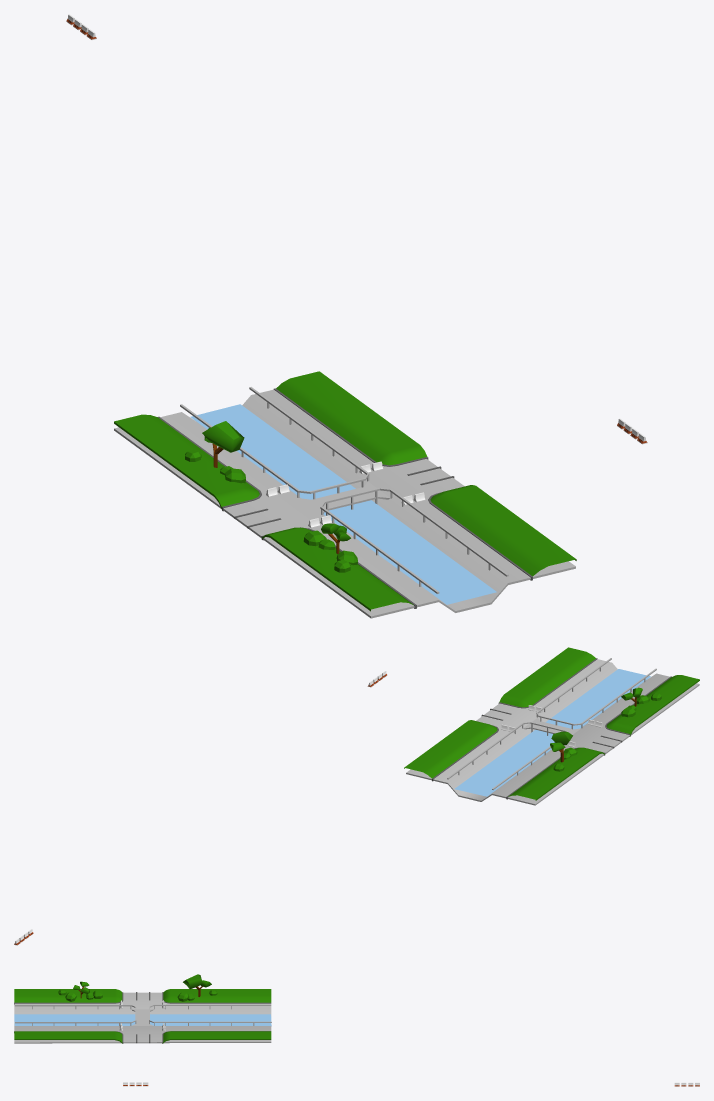
The model's file is L3 Waterway.fbx.
3 renders of one model, top to bottom at view 1: azimuth 30°, elevation 25°; view 2: azimuth 150°, elevation 25°; view 3: azimuth 270°, elevation 25°, orthographic. The views are drawn at different scales.
Visible parts, largest first — view 1: pCube7092, pPlane1053, pCube7053, pCube7052, pCube7047, pCube7049, pCube7071, pCube7068, pCube7062, pCube7134; view 2: pCube7092, pPlane1053, pCube7052, pCube7053, pCube7049, pCube7047, pCube7071, pCube7068; view 3: pCube7092, pPlane1053, pCube7047, pCube7049, pCube7053, pCube7052, pCube7071, pCube7068, pCube7134, pCube7062, pCube7050, pCube7048.
Boxes of the visible parts, x1,y1,x2,y2 form: pCube7092: (114, 389, 575, 618); pPlane1053: (190, 404, 496, 604); pCube7053: (276, 371, 427, 465); pCube7052: (430, 485, 576, 576); pCube7047: (114, 414, 259, 509); pCube7049: (262, 527, 413, 611); pCube7071: (320, 488, 508, 593); pCube7068: (180, 387, 369, 493); pCube7062: (300, 481, 390, 513); pCube7134: (202, 421, 244, 467); pCube7092: (406, 659, 699, 805); pPlane1053: (455, 669, 650, 796); pCube7052: (499, 647, 596, 707); pCube7053: (404, 720, 497, 778); pCube7049: (606, 675, 699, 735); pCube7047: (508, 747, 604, 800); pCube7071: (536, 658, 656, 725); pCube7068: (447, 722, 566, 789); pCube7092: (14, 992, 271, 1043); pPlane1053: (14, 1014, 271, 1026); pCube7047: (163, 989, 271, 1002); pCube7049: (14, 989, 122, 1002); pCube7053: (162, 1031, 271, 1043); pCube7052: (14, 1031, 122, 1043); pCube7071: (14, 1005, 136, 1023); pCube7068: (149, 1004, 271, 1022); pCube7134: (183, 974, 211, 996); pCube7062: (131, 1009, 153, 1025); pCube7050: (14, 992, 123, 1004); pCube7048: (162, 992, 271, 1003).
Bounding box in the file's own units: 23.1 × 3.85 × 70.89.
Materials: 1 (1 with a texture image).
